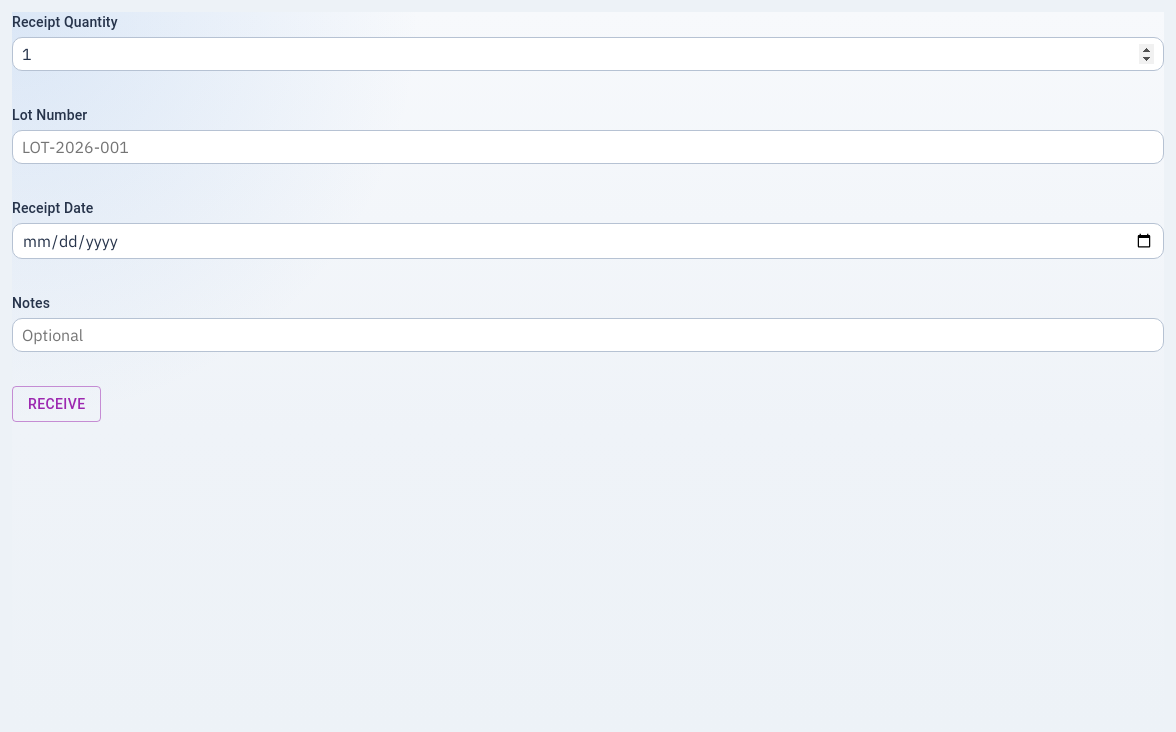
PurchaseOrderReceiptForm › submits a valid new-lot receipt payload
The image size is (1176, 732).
Replace the text in the number field labelled "Receipt Quantity" with "4" at [588, 54], box [12,37,1164,71]
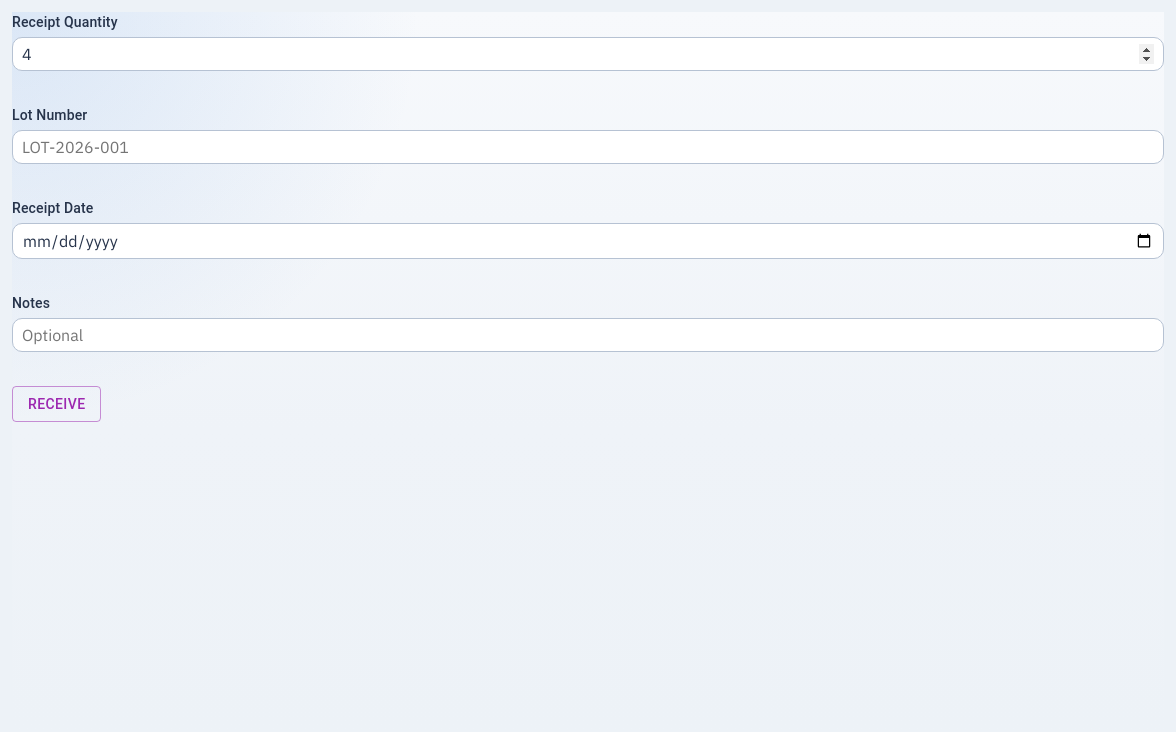
Type "LOT-AL-002" into the field labelled "Lot Number" at [588, 147], box [12,130,1164,164]
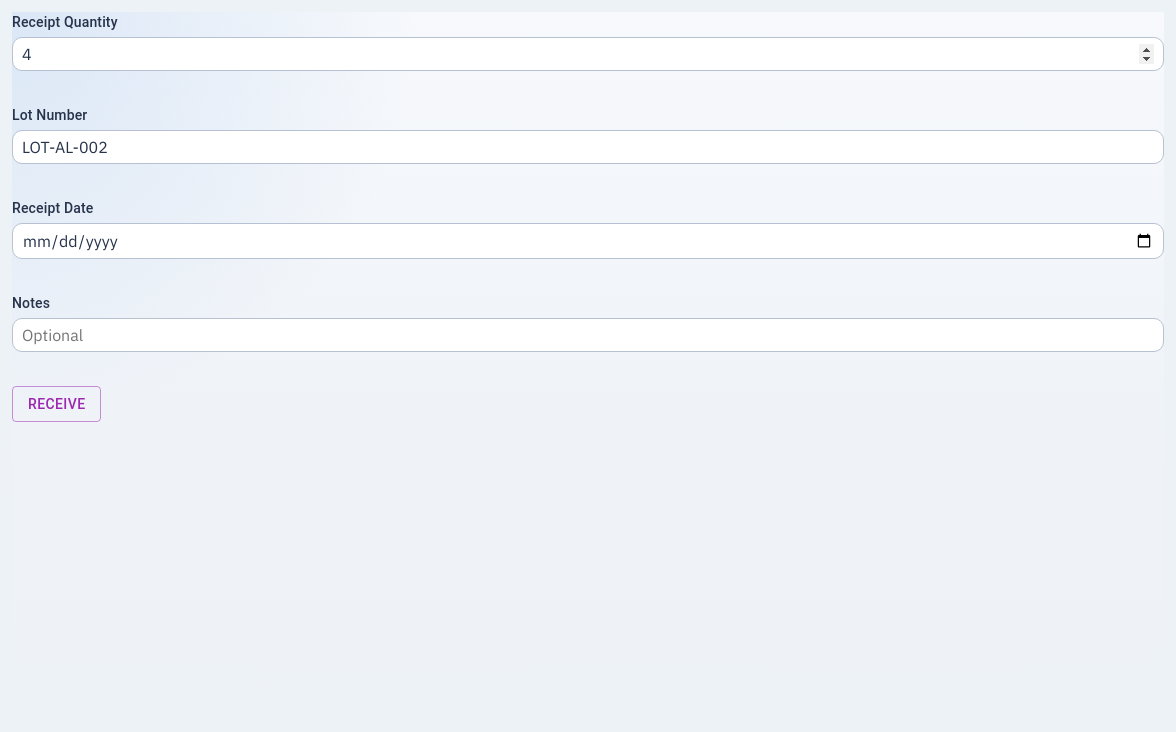
Type "2026-03-11" into the date field labelled "Receipt Date" at [588, 241], box [12,223,1164,259]
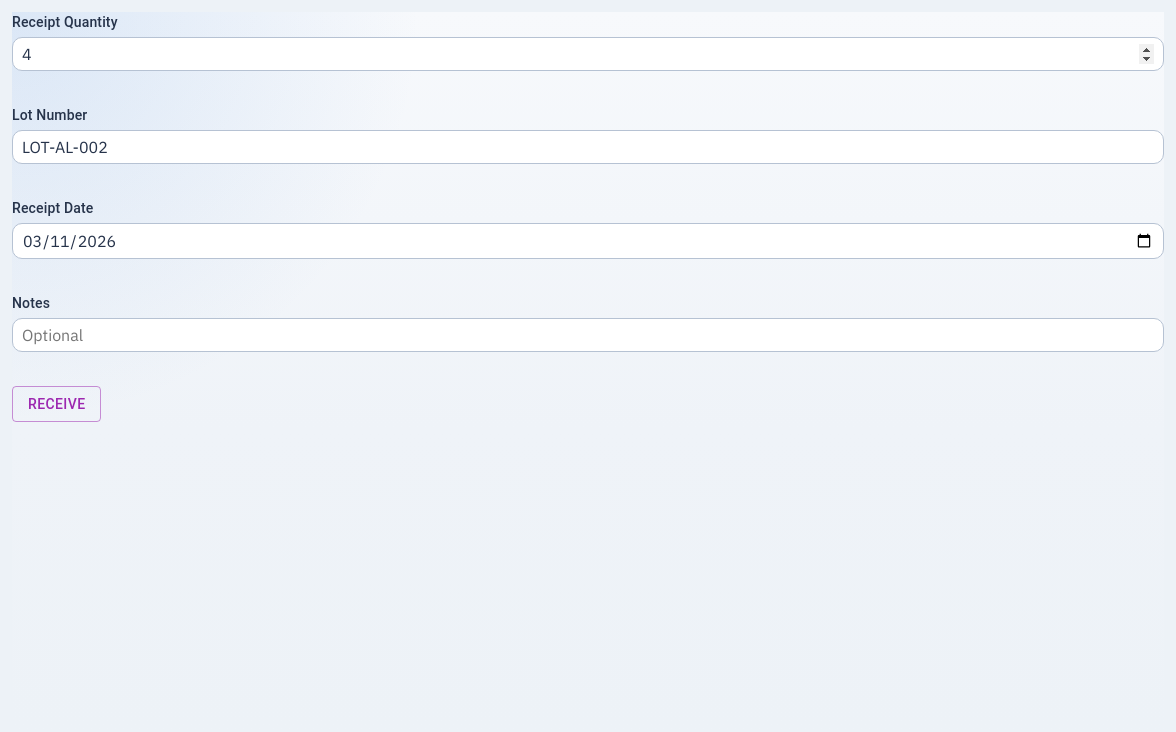
Type "First pallet" into the field labelled "Notes" at [588, 335], box [12,318,1164,352]
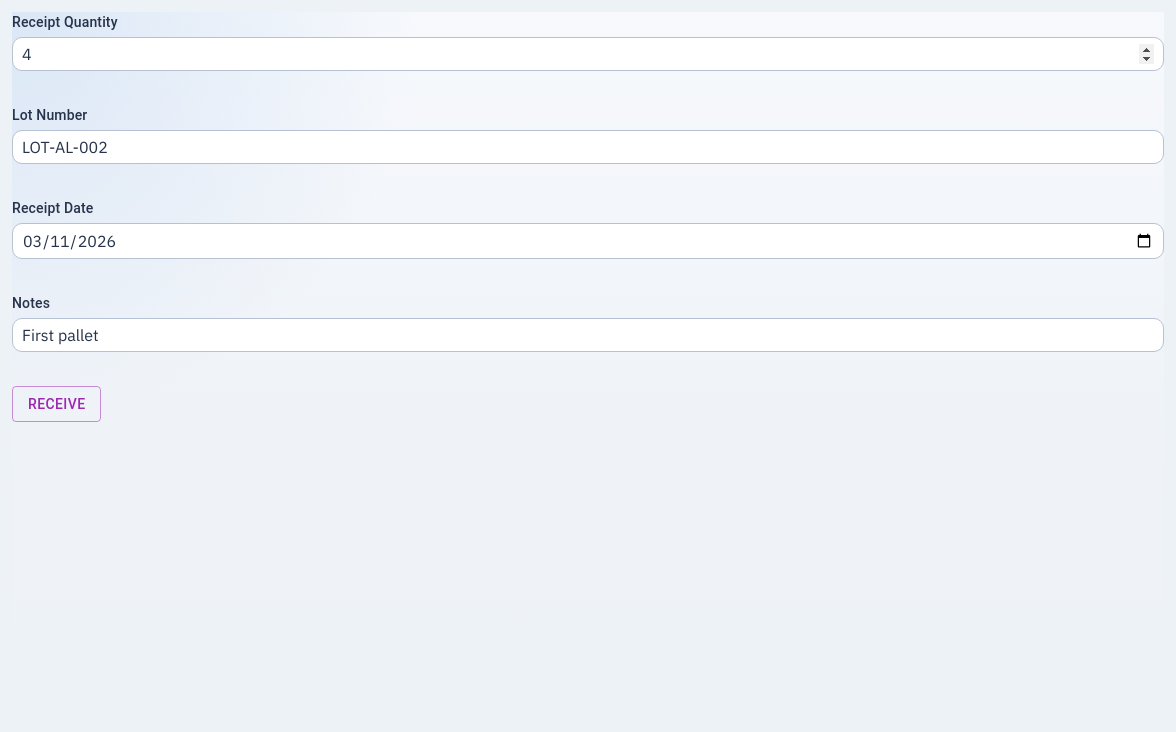
Click the button "Receive" at [57, 404], box [12,386,102,422]
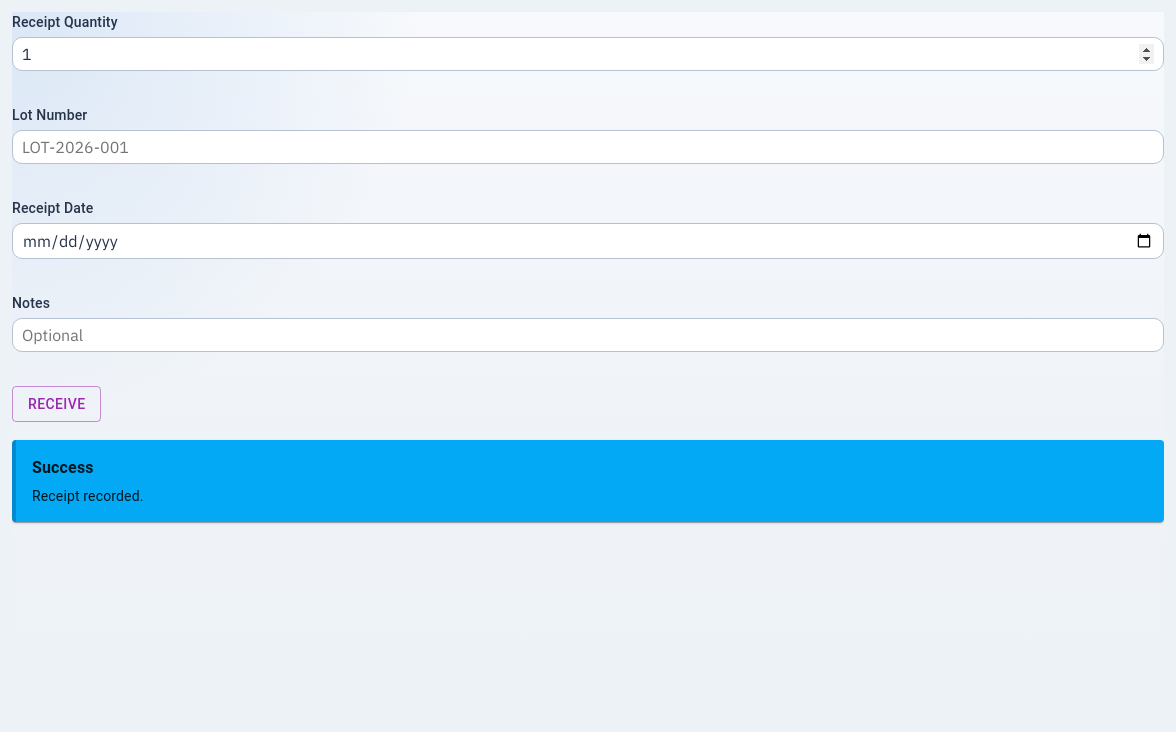
Result: the text "Receipt recorded." is shown at [32,488,144,504]
